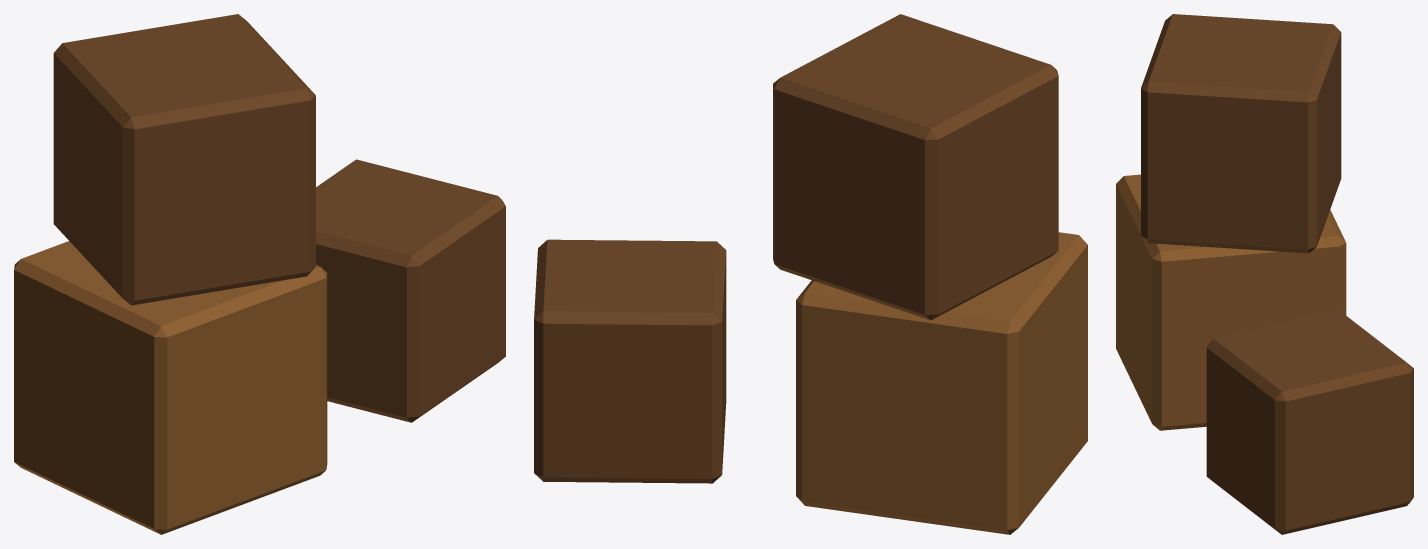
File: crates.glb
3 renders of one model, left to right at view 1: azimuth 30°, elevation 25°; view 2: azimuth 150°, elevation 25°; view 3: azimuth 270°, elevation 25°, orthographic. The views are drawn at different scales.
Parts seen in each view (by area): view 1: g_m_6b4423, g_m_8a5a2b; view 2: g_m_6b4423, g_m_8a5a2b; view 3: g_m_6b4423, g_m_8a5a2b.
Part boxes in pixels (x1=…): g_m_6b4423: x1=53, y1=14, x2=505, y2=422; g_m_8a5a2b: x1=14, y1=241, x2=327, y2=534; g_m_6b4423: x1=534, y1=14, x2=1058, y2=483; g_m_8a5a2b: x1=796, y1=232, x2=1087, y2=534; g_m_6b4423: x1=1141, y1=14, x2=1413, y2=534; g_m_8a5a2b: x1=1116, y1=174, x2=1346, y2=430.
Size of the model in its own units: 2.41 by 1.9 by 1.51.
